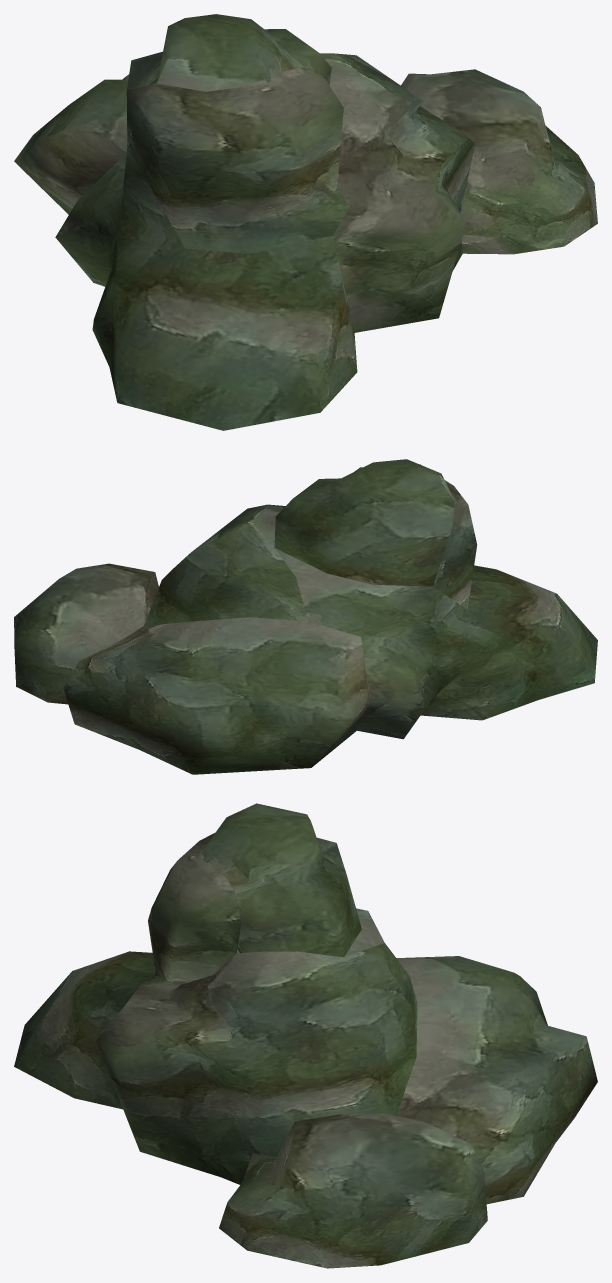
3 renders of one model, top to bottom at view 1: azimuth 30°, elevation 25°; view 2: azimuth 150°, elevation 25°; view 3: azimuth 270°, elevation 25°, orthographic. The views are drawn at different scales.
Parts seen in each view (by area): view 1: polySurface2461; view 2: polySurface2461; view 3: polySurface2461.
Boxes of the visible parts, left/top/right/bottom form: polySurface2461: left=14, top=14, right=597, bottom=430; polySurface2461: left=14, top=459, right=597, bottom=774; polySurface2461: left=14, top=803, right=597, bottom=1268.
Bounding box in the file's own units: 13.53 × 6.09 × 12.51.
